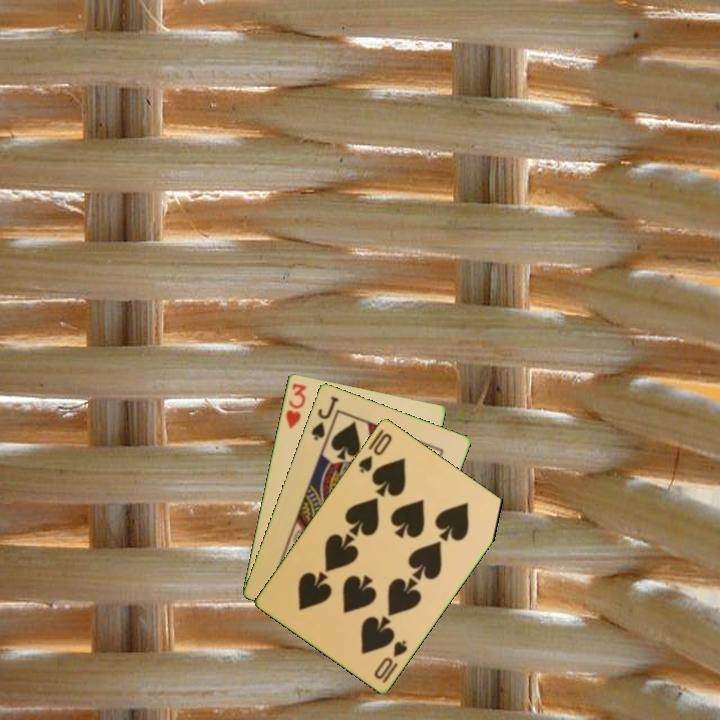10s: (370, 636, 411, 686), (355, 429, 395, 476)
3h: (282, 379, 309, 431)
Js: (307, 392, 342, 443)
